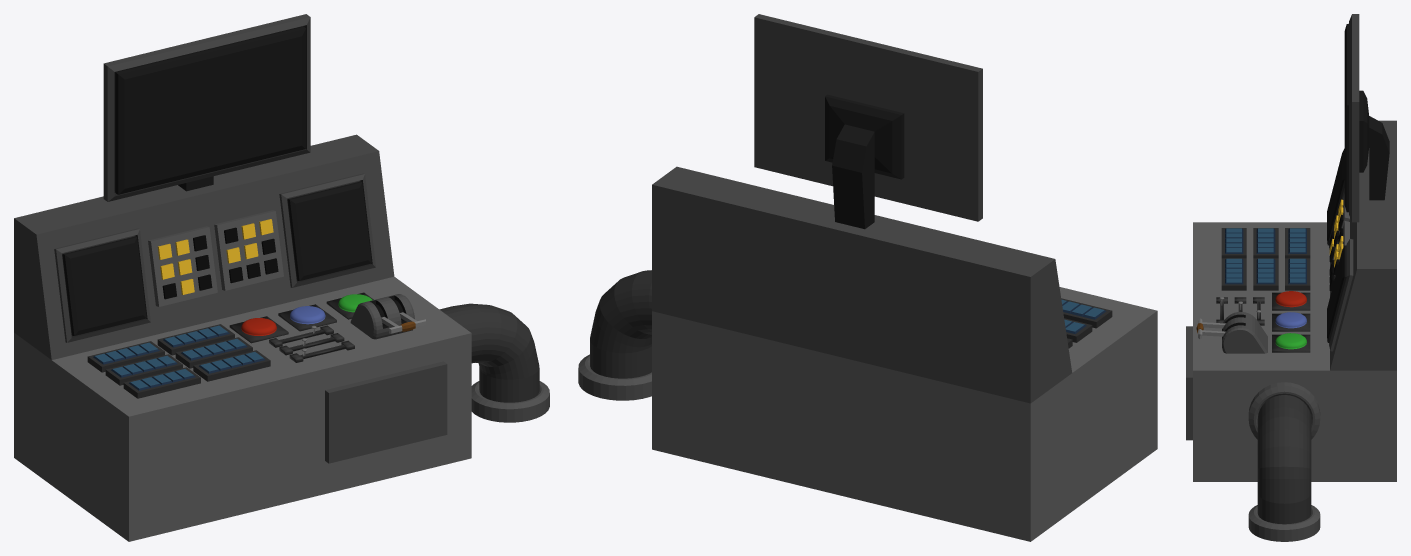
File: Mesa 1.fbx
3 views of the same model, side by side, from view 1: azimuth 30°, elevation 25°; view 2: azimuth 150°, elevation 25°; view 3: azimuth 270°, elevation 25° (orthographic). The views are drawn at different scales.
Parts seen in each view (by area): view 1: Mesa 1, Monitor.004, Tampa, Monitor Quadrado.003, Monitor Quadrado.004, Pad.002, Pad.003, Alavanca_Base.001, Sequencia.004, Sequencia.007, Sequencia.006, Sequencia.003 (+4 smaller); view 2: Mesa 1, Monitor.004, Cabo Monitor.002, Sequencia.004; view 3: Mesa 1, Monitor.004, Cabo Monitor.002, Alavanca_Base.001, Monitor Quadrado.004, Sequencia.005, Sequencia.006, Sequencia.007, Monitor Quadrado.003, Sequencia.003, Sequencia.002, Sequencia.004 (+7 smaller).
Part boxes in pixels (box(x1,y1,x2,y2)): Mesa 1: box(14, 134, 549, 541); Monitor.004: box(103, 14, 310, 201); Tampa: box(325, 361, 447, 463); Monitor Quadrado.003: box(54, 228, 150, 342); Monitor Quadrado.004: box(279, 173, 375, 287); Pad.002: box(148, 226, 217, 306); Pad.003: box(214, 210, 283, 290); Alavanca_Base.001: box(350, 294, 414, 339); Sequencia.004: box(123, 367, 200, 398); Sequencia.007: box(193, 350, 270, 381); Sequencia.006: box(175, 337, 252, 368); Sequencia.003: box(105, 354, 182, 385); Mesa 1: box(578, 166, 1157, 541); Monitor.004: box(754, 14, 982, 221); Cabo Monitor.002: box(825, 94, 904, 229); Sequencia.004: box(1061, 298, 1112, 328); Mesa 1: box(1193, 120, 1396, 541); Monitor.004: box(1344, 14, 1359, 222); Cabo Monitor.002: box(1359, 90, 1389, 200); Alavanca_Base.001: box(1222, 312, 1267, 353); Monitor Quadrado.004: box(1327, 239, 1353, 351); Sequencia.005: box(1285, 258, 1310, 290); Sequencia.006: box(1253, 258, 1278, 290); Sequencia.007: box(1221, 258, 1246, 290); Monitor Quadrado.003: box(1327, 148, 1344, 249); Sequencia.003: box(1253, 228, 1278, 258); Sequencia.002: box(1285, 228, 1310, 258); Sequencia.004: box(1221, 228, 1246, 258).
Size of the model in its own units: 2525 by 2066 by 1111.
